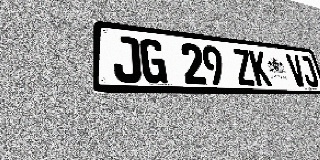2: (180, 42, 207, 85)
9: (201, 45, 227, 85)
G: (139, 38, 168, 84)
J: (112, 35, 142, 83), (298, 55, 320, 87)
K: (248, 50, 272, 86)
V: (285, 54, 308, 87)
Z: (232, 48, 256, 86)
